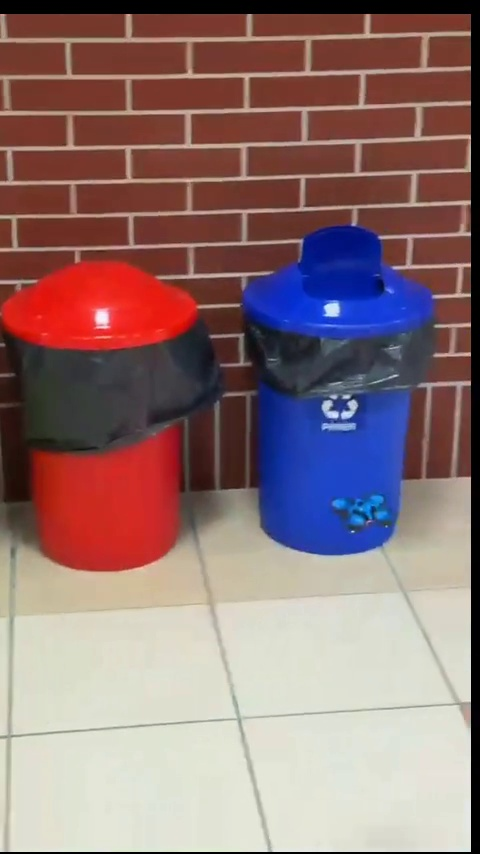drone: (329, 494, 395, 540)
